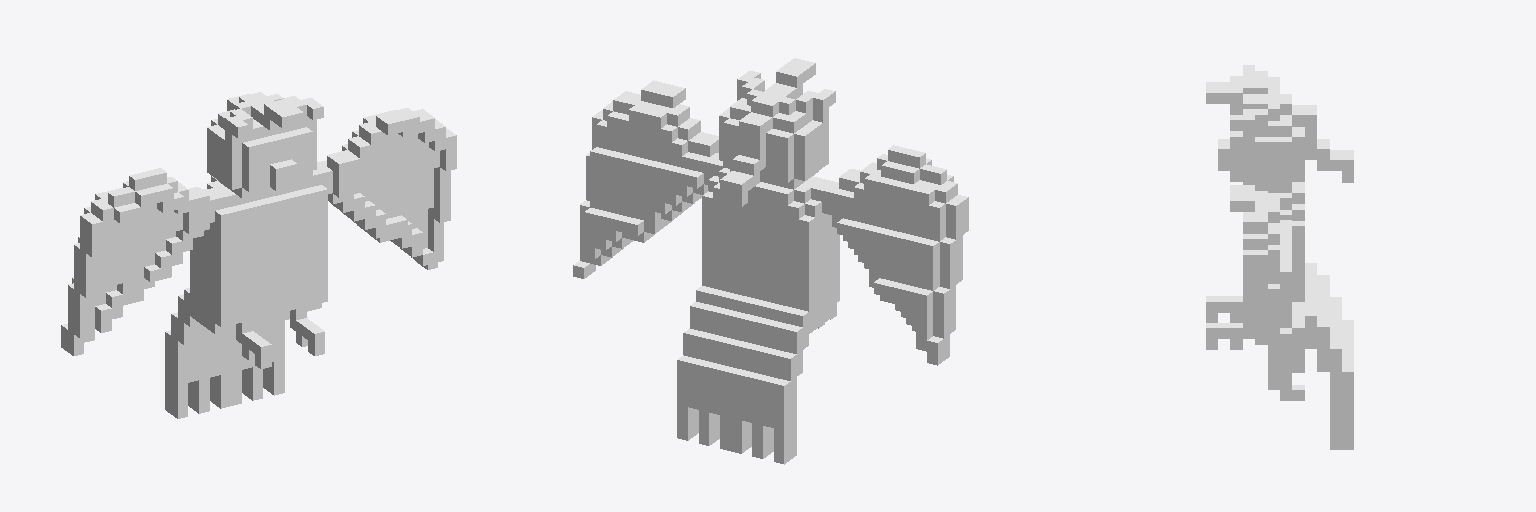
The model's file is SpecialEnemy01.obj.
3 views of the same model, side by side, from view 1: azimuth 30°, elevation 25°; view 2: azimuth 150°, elevation 25°; view 3: azimuth 270°, elevation 25° (orthographic).
Visible parts, largest first — view 1: object 1; view 2: object 1; view 3: object 1.
Boxes of the visible parts, x1=… form: object 1: x1=61, y1=92, x2=456, y2=418; object 1: x1=573, y1=58, x2=968, y2=464; object 1: x1=1206, y1=65, x2=1353, y2=449.
Size of the model in its own units: 3.4 by 3 by 1.2.